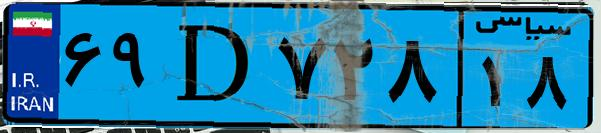1: (475, 38, 525, 113)
2: (330, 28, 385, 110)
6: (57, 26, 110, 100)
7: (270, 28, 330, 110)
8: (385, 28, 445, 110), (525, 38, 570, 115)
9: (110, 28, 158, 98)
D: (158, 12, 270, 120)
